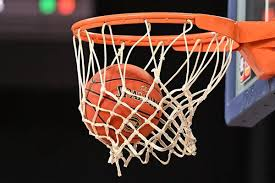MadeBasket: (71, 11, 239, 176)
